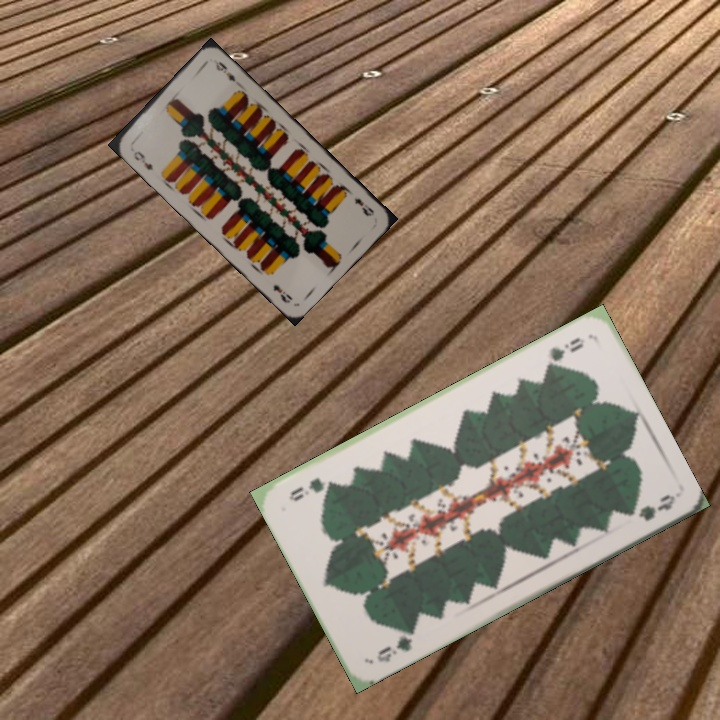E9: (129, 147, 156, 173), (350, 194, 377, 219)
G9: (372, 623, 418, 665), (541, 333, 586, 373)
